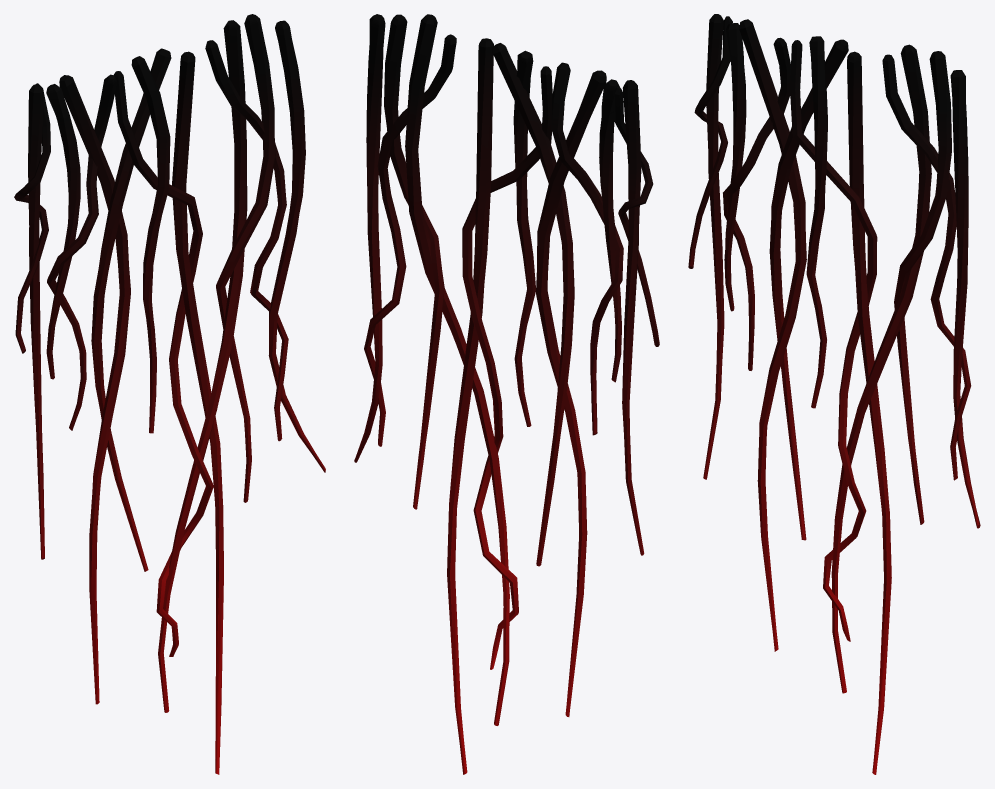
Rendered from SM_Env_Vines_01.fbx.
3 views of the same model, side by side, from view 1: azimuth 30°, elevation 25°; view 2: azimuth 150°, elevation 25°; view 3: azimuth 330°, elevation 25° (orthographic). The views are drawn at different scales.
Parts seen in each view (by area): view 1: SM_Env_Vines_01_LOD0; view 2: SM_Env_Vines_01_LOD0; view 3: SM_Env_Vines_01_LOD0.
Boxes of the visible parts, bbox=[...] form: SM_Env_Vines_01_LOD0: bbox=[14, 14, 325, 774]; SM_Env_Vines_01_LOD0: bbox=[354, 14, 659, 774]; SM_Env_Vines_01_LOD0: bbox=[688, 14, 980, 774].
Size of what is drawn, in the model's own units: 122 by 286 by 20.29.
